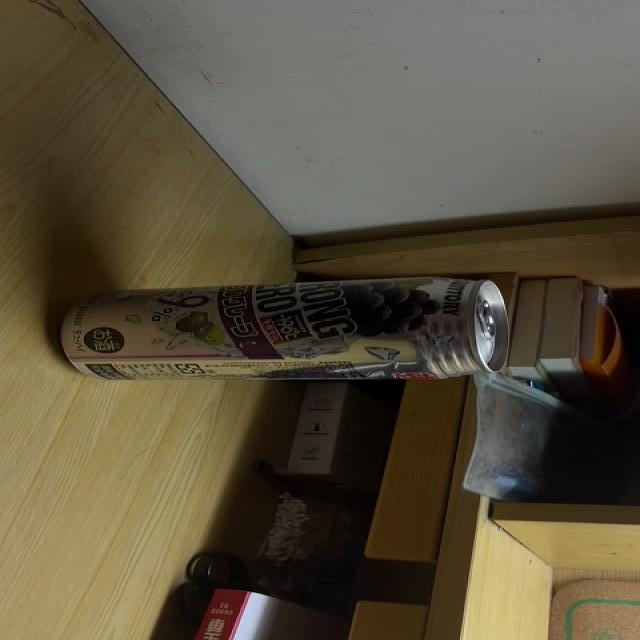Liquor: (57, 278, 514, 382)
